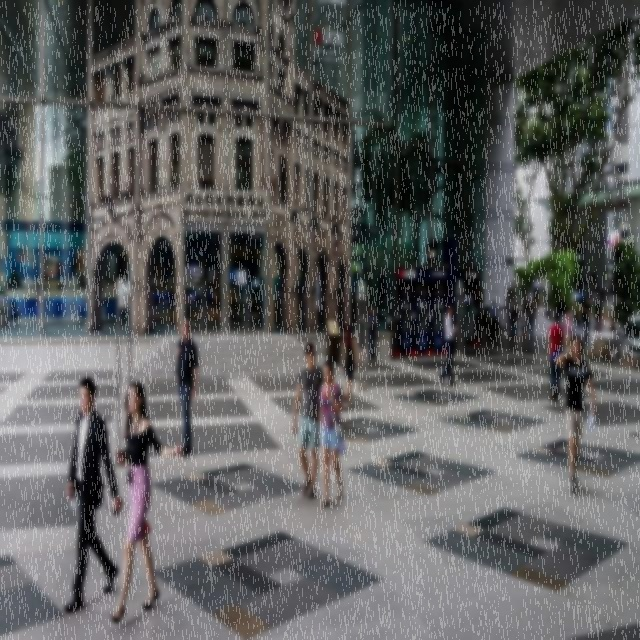pessoa: (62, 372, 124, 616), (108, 376, 160, 625), (553, 332, 598, 495), (292, 342, 326, 499), (315, 354, 347, 510), (173, 316, 199, 458), (504, 284, 540, 348), (338, 321, 361, 414), (436, 300, 458, 390), (548, 312, 564, 406), (579, 292, 594, 348), (367, 303, 378, 365), (486, 297, 498, 343), (592, 292, 604, 334), (563, 306, 574, 350), (558, 292, 568, 340), (570, 308, 582, 337), (74, 247, 86, 273), (482, 304, 492, 329), (16, 245, 28, 265), (42, 254, 51, 280), (608, 308, 616, 334)
